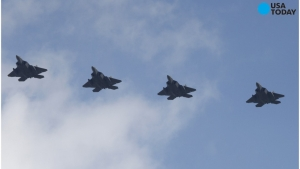flight: (154, 75, 197, 101), (82, 66, 123, 93), (7, 55, 49, 81), (245, 82, 285, 108)
